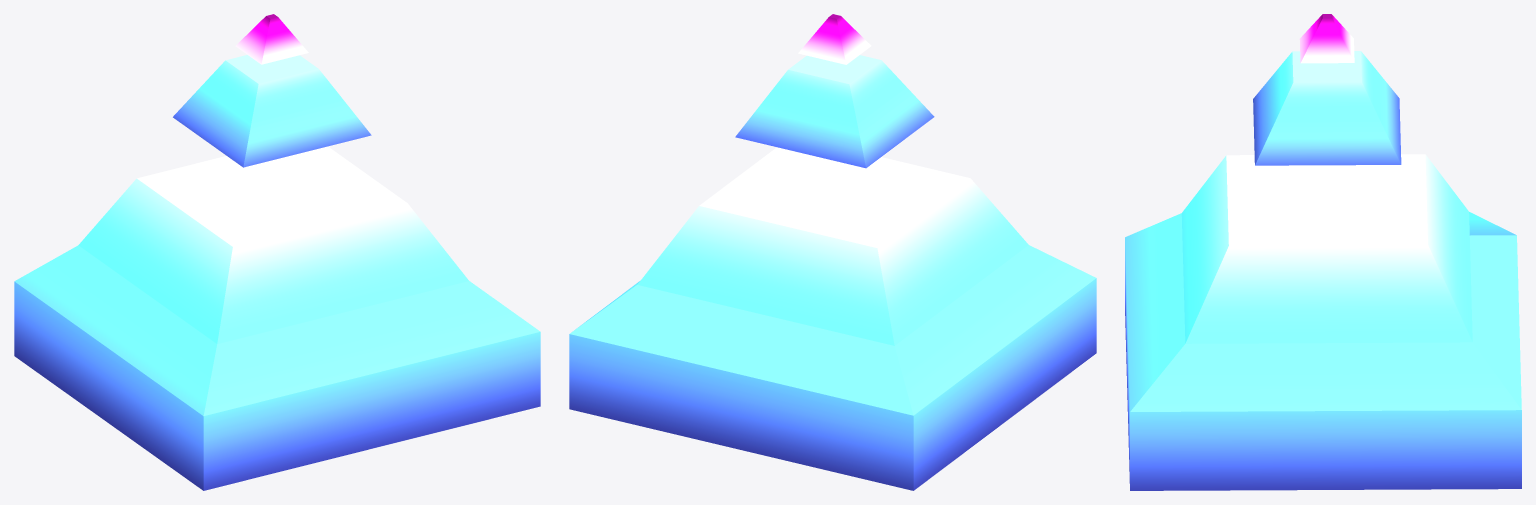
3 renders of one model, left to right at view 1: azimuth 30°, elevation 25°; view 2: azimuth 150°, elevation 25°; view 3: azimuth 270°, elevation 25°, orthographic. The views are drawn at different scales.
Parts seen in each view (by area): view 1: Cube.002; view 2: Cube.002; view 3: Cube.002.
Boxes of the visible parts, left/top/right/bottom form: Cube.002: left=14, top=14, right=540, bottom=490; Cube.002: left=569, top=14, right=1096, bottom=490; Cube.002: left=1125, top=14, right=1521, bottom=490.
Size of the model in its own units: 37.75 by 38.3 by 35.79.
1 material, 1 textured.
